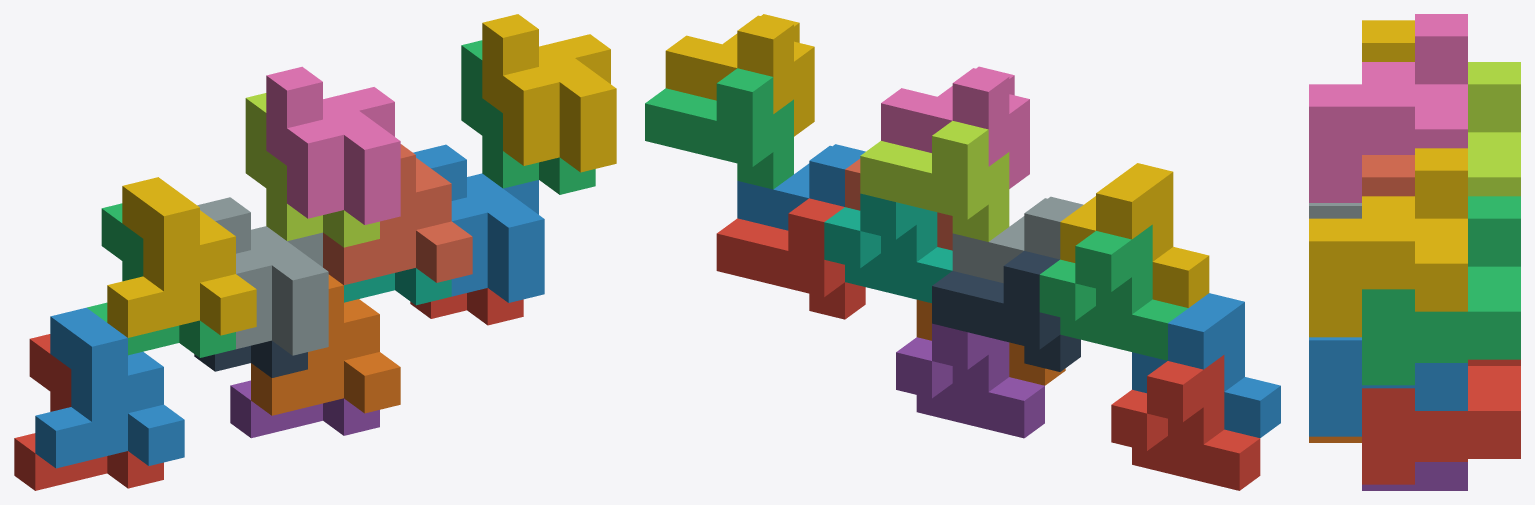
The model's file is tiling.obj.
3 views of the same model, side by side, from view 1: azimuth 30°, elevation 25°; view 2: azimuth 150°, elevation 25°; view 3: azimuth 270°, elevation 25° (orthographic). The views are drawn at different scales.
Visible parts, largest first — view 1: copy_2_domain_8, copy_2_domain_4, copy_1_domain_4, copy_1_domain_2, copy_2_domain_6, copy_2_domain_2, copy_1_domain_8, copy_1_domain_6, copy_1_domain_1, copy_2_domain_3, copy_2_domain_7, copy_1_domain_3 (+4 smaller); view 2: copy_1_domain_1, copy_1_domain_3, copy_2_domain_3, copy_2_domain_7, copy_1_domain_5, copy_1_domain_7, copy_1_domain_4, copy_2_domain_5, copy_2_domain_1, copy_2_domain_8, copy_2_domain_4, copy_1_domain_2 (+4 smaller); view 3: copy_2_domain_8, copy_2_domain_4, copy_2_domain_7, copy_2_domain_5, copy_2_domain_6, copy_2_domain_3, copy_1_domain_4, copy_1_domain_8, copy_1_domain_5, copy_2_domain_2, copy_1_domain_6.
Part boxes in pixels (box(x1,y1,x2,y2)): copy_2_domain_8: box(482, 14, 616, 172); copy_2_domain_4: box(266, 66, 400, 224); copy_1_domain_4: box(107, 177, 256, 337); copy_1_domain_2: box(35, 307, 184, 468); copy_2_domain_6: box(413, 144, 544, 302); copy_2_domain_2: box(197, 197, 328, 355); copy_1_domain_8: box(323, 144, 472, 285); copy_1_domain_6: box(251, 274, 400, 415); copy_1_domain_1: box(14, 334, 163, 490); copy_2_domain_3: box(245, 93, 379, 247); copy_2_domain_7: box(461, 40, 595, 194); copy_1_domain_3: box(87, 203, 235, 357); copy_1_domain_1: box(1111, 355, 1260, 490); copy_1_domain_3: box(1039, 224, 1187, 360); copy_2_domain_3: box(860, 121, 1009, 241); copy_2_domain_7: box(645, 68, 793, 189); copy_1_domain_5: box(896, 323, 1044, 438); copy_1_domain_7: box(824, 193, 952, 303); copy_1_domain_4: box(1060, 163, 1209, 307); copy_2_domain_5: box(716, 198, 865, 319); copy_2_domain_1: box(932, 251, 1080, 371); copy_2_domain_8: box(665, 14, 814, 136); copy_2_domain_4: box(881, 66, 1029, 188); copy_1_domain_2: box(1132, 293, 1280, 437); copy_2_domain_8: box(1309, 148, 1467, 337); copy_2_domain_4: box(1309, 14, 1467, 202); copy_2_domain_7: box(1362, 196, 1520, 385); copy_2_domain_5: box(1362, 359, 1520, 484); copy_2_domain_6: box(1309, 337, 1467, 436); copy_2_domain_3: box(1468, 62, 1520, 196); copy_1_domain_4: box(1362, 20, 1414, 61); copy_1_domain_8: box(1362, 155, 1414, 196); copy_1_domain_5: box(1362, 462, 1467, 490); copy_2_domain_2: box(1309, 203, 1361, 218); copy_1_domain_6: box(1309, 436, 1361, 442).
Bounding box in the file's own units: 16 × 9 × 4.
